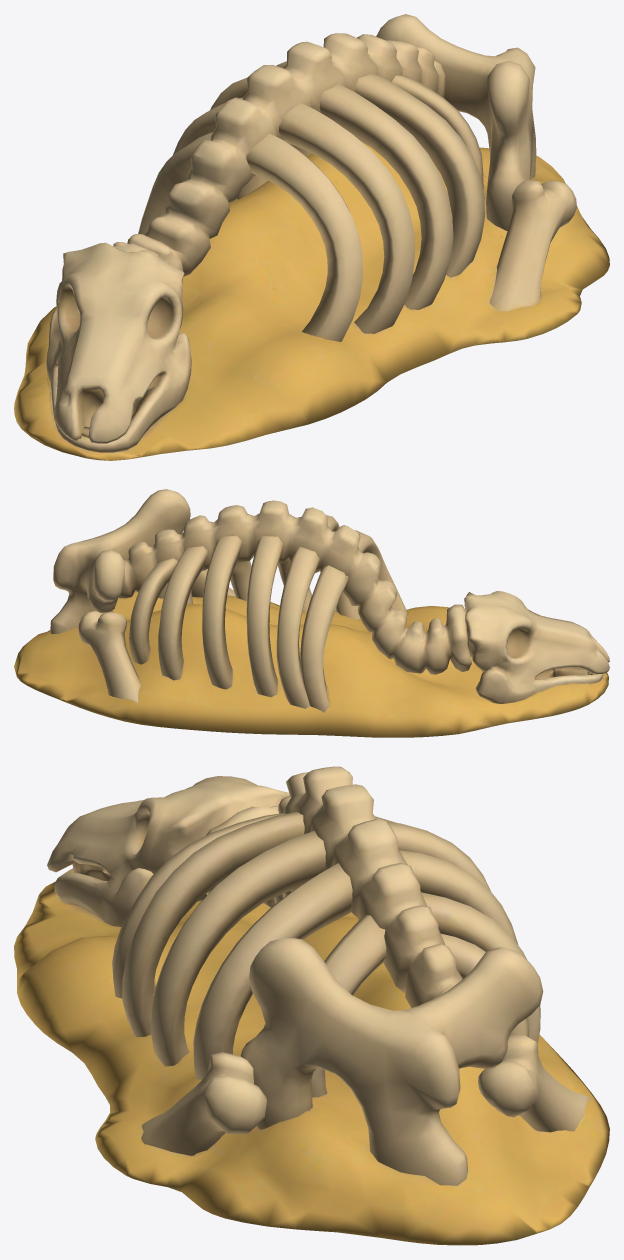
File: SM_Tripo_DesertCamelSkeleton.glb
3 renders of one model, top to bottom at view 1: azimuth 30°, elevation 25°; view 2: azimuth 150°, elevation 25°; view 3: azimuth 270°, elevation 25°, orthographic. The views are drawn at different scales.
Parts seen in each view (by area): view 1: SM_Tripo_DesertCamelSkeleton_LOD0; view 2: SM_Tripo_DesertCamelSkeleton_LOD0; view 3: SM_Tripo_DesertCamelSkeleton_LOD0.
Part boxes in pixels (x1,y1,x2,y2): SM_Tripo_DesertCamelSkeleton_LOD0: (14, 14, 609, 460); SM_Tripo_DesertCamelSkeleton_LOD0: (14, 489, 609, 737); SM_Tripo_DesertCamelSkeleton_LOD0: (14, 766, 609, 1245).
Size of the model in its own units: 2.7 by 0.9851 by 1.79.
Materials: 1 (1 with a texture image).
